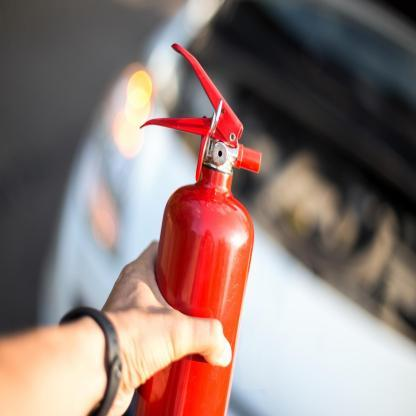Fire Extinguisher: (123, 37, 290, 416)
